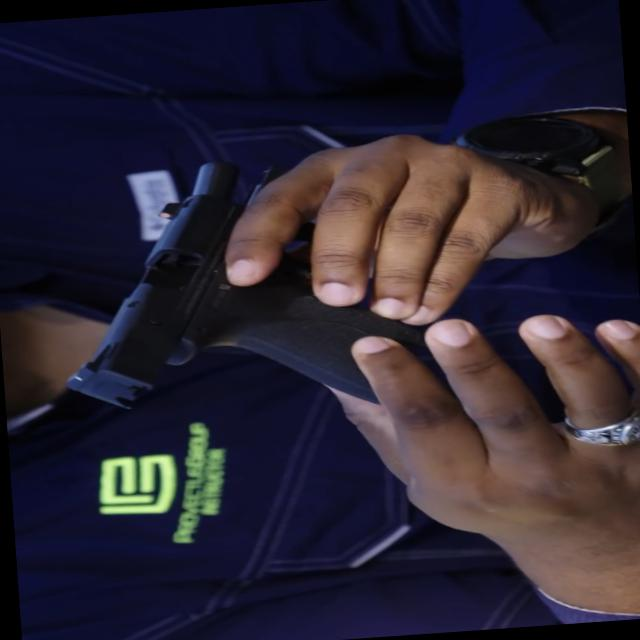handgun: (38, 157, 451, 409)
